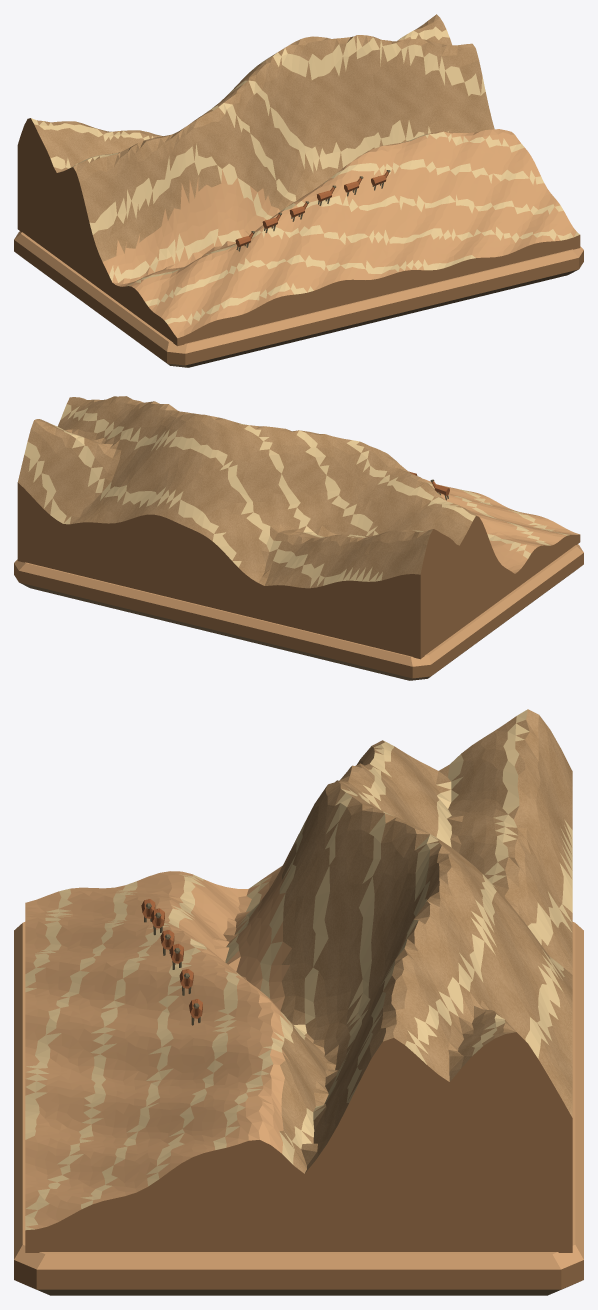
Rendered from xiangshawan.glb.
The picture shows the model from 3 angles, top to bottom: view 1: azimuth 30°, elevation 25°; view 2: azimuth 150°, elevation 25°; view 3: azimuth 270°, elevation 25°; orthographic projection. The views are drawn at different scales.
Visible parts, largest first — view 1: 响沙湾; view 2: 响沙湾; view 3: 响沙湾.
Part boxes in pixels (x1,y1,x2,y2): 响沙湾: (14, 14, 583, 367); 响沙湾: (14, 396, 583, 680); 响沙湾: (14, 709, 583, 1295).
Bounding box in the file's own units: 6.15 × 2.56 × 4.25.
7 materials, 1 textured.
